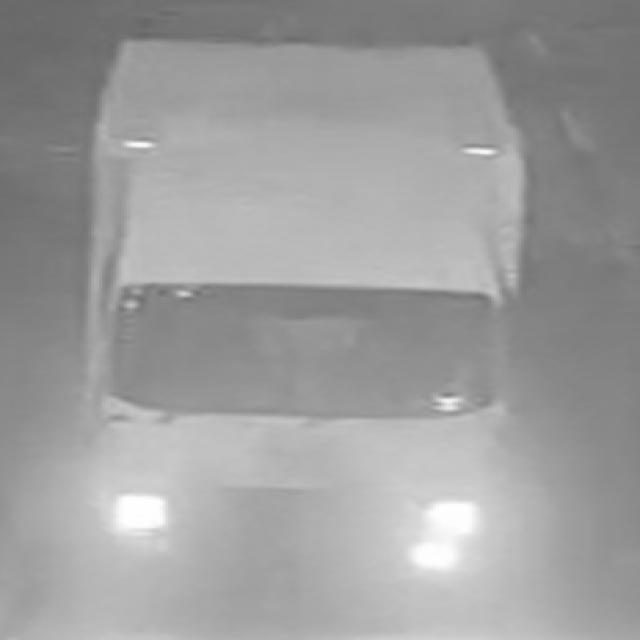Truck: (61, 26, 530, 604)
